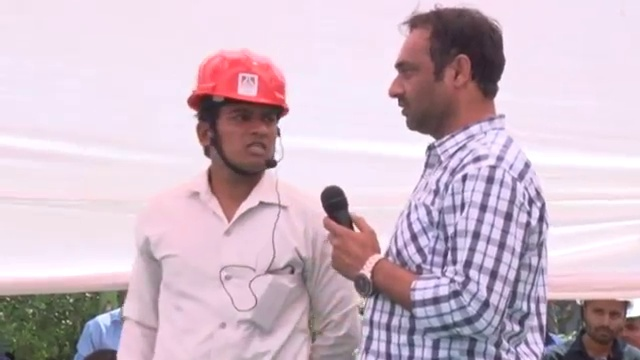helmet: (185, 51, 295, 118)
helmet_off: (390, 7, 507, 138), (579, 297, 629, 343), (625, 305, 640, 351)
helmet_on: (189, 49, 295, 179)
person: (93, 52, 364, 353), (350, 2, 564, 359), (541, 296, 640, 360), (70, 292, 130, 360)
